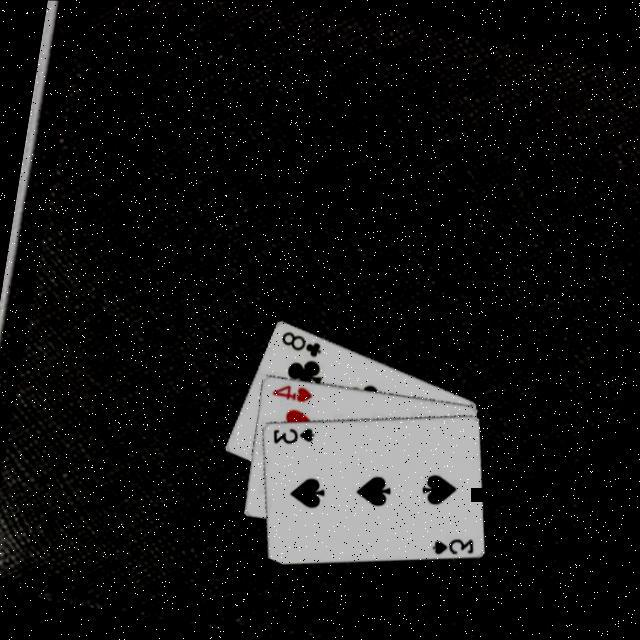3S: (266, 417, 317, 451), (426, 527, 476, 560)
4H: (267, 377, 315, 405)
8C: (274, 325, 324, 359)
